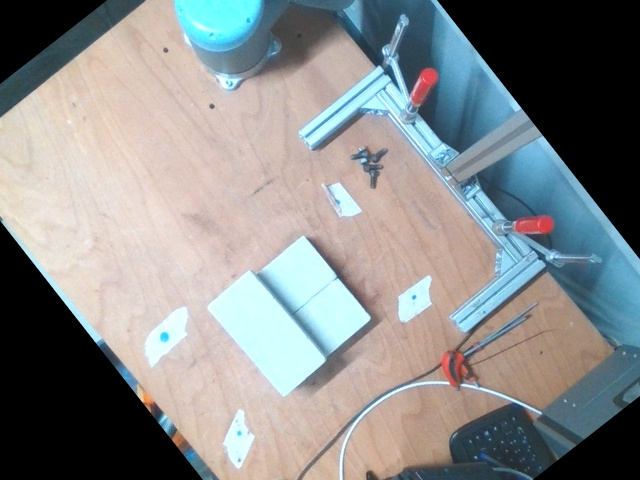brick: (206, 271, 327, 398)
